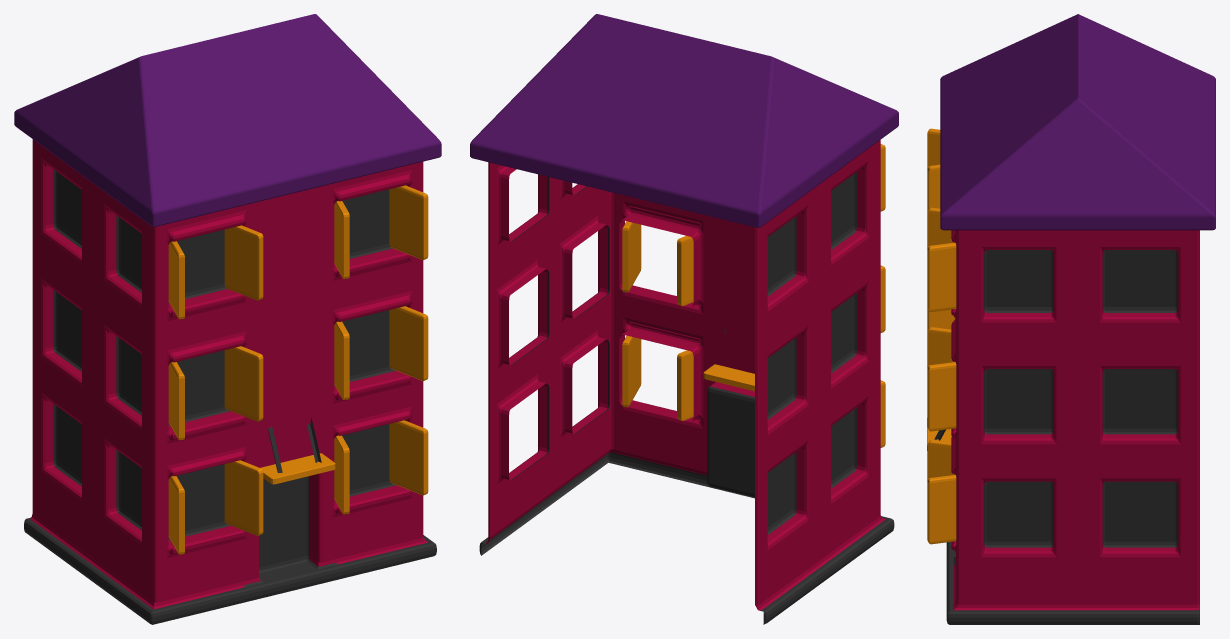
File: bina3.fbx
3 renders of one model, left to right at view 1: azimuth 30°, elevation 25°; view 2: azimuth 150°, elevation 25°; view 3: azimuth 270°, elevation 25°, orthographic.
Parts seen in each view (by area): view 1: bina3; view 2: bina3; view 3: bina3.
Part boxes in pixels (x1,y1,x2,y2): bina3: (14,14,441,624); bina3: (470,14,898,624); bina3: (927,14,1215,624).
Size of the model in its own units: 7049 by 11828 by 6176.
